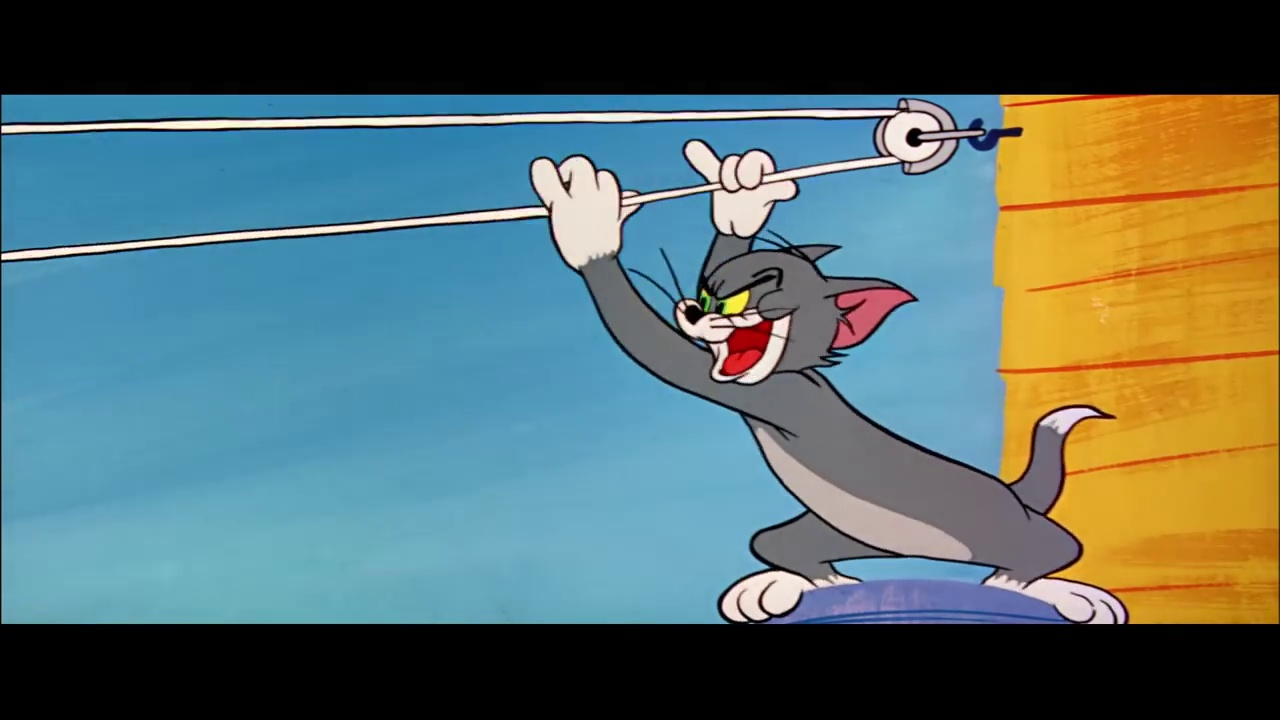tom: (663, 234, 930, 389)
